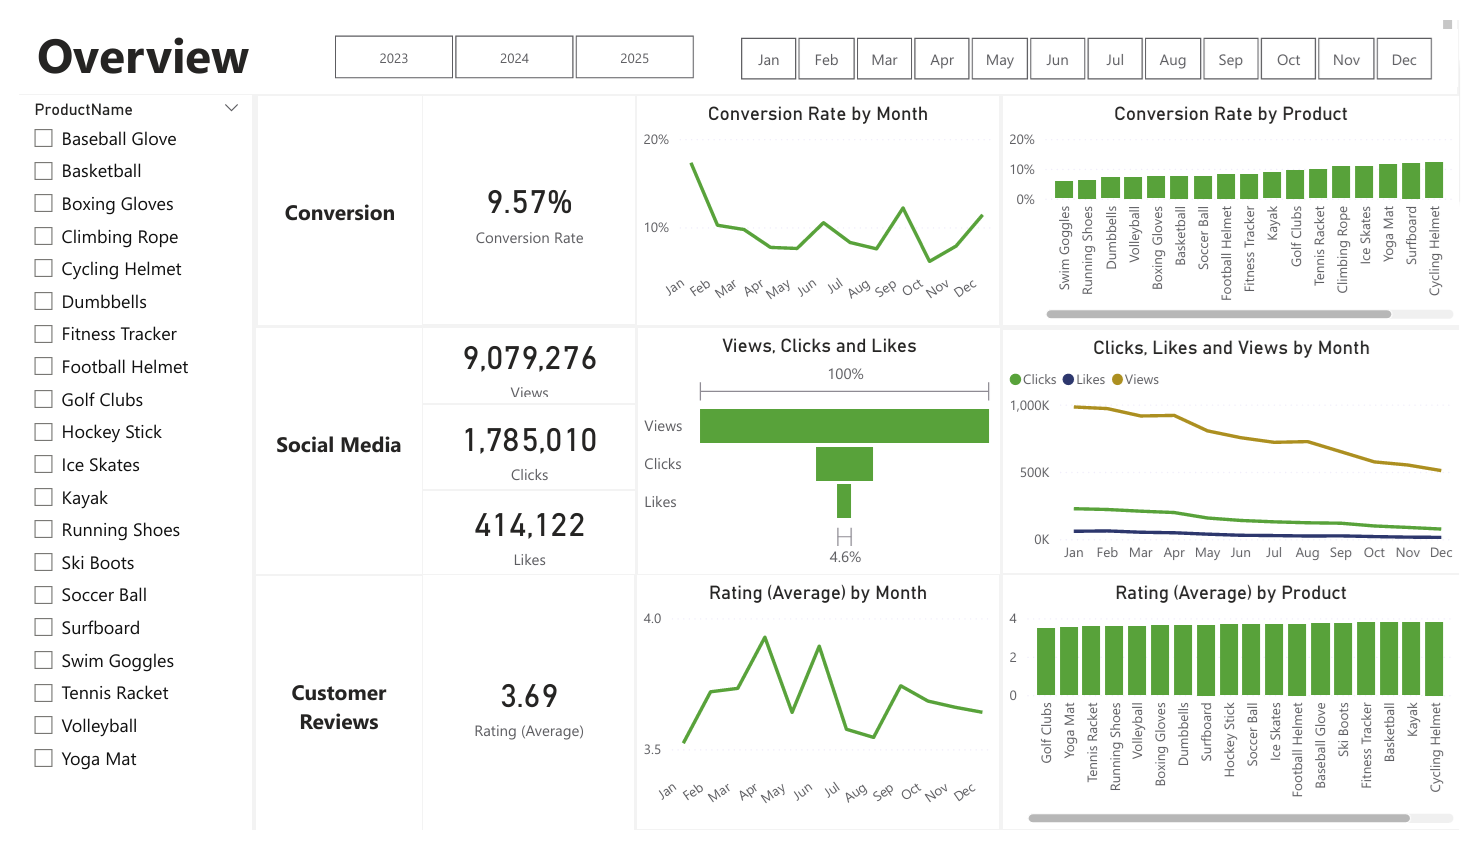

This screenshot's page, from the dashboard's own definition file:
{"tool":"powerbi","page":{"name":"Overview","canvas":[1280,720],"ordinal":0},"visuals":[{"type":"textbox","box":[0,0,1278.5,64.7],"z":0},{"type":"slicer","fields":{"Values":["products.ProductName"]},"box":[0,66.2,207.4,653.7],"z":1000},{"type":"textbox","box":[212,66.6,145.4,202.9],"z":2000},{"type":"textbox","box":[210.5,273.1,146.9,217.5],"z":3000},{"type":"textbox","box":[210.5,493.6,146.9,227.1],"z":4000},{"type":"card","fields":{"Values":["Calculations.Conversion Rate"]},"box":[358.9,66.6,187.8,202.4],"z":5000},{"type":"card","fields":{"Values":["Calculations.Views"]},"box":[358.9,272.6,187.8,66.6],"z":6000},{"type":"card","fields":{"Values":["Calculations.Likes"]},"box":[358.9,417.9,187.8,72.7],"z":7000},{"type":"card","fields":{"Values":["Calculations.Rating (Average)"]},"box":[359,493.4,186.9,227.9],"z":8000},{"type":"card","fields":{"Values":["Calculations.Clicks"]},"box":[358.9,342.2,187.8,74.2],"z":9000},{"type":"slicer","fields":{"Values":["Calendar.Year"]},"box":[254.4,6.1,368.5,51.5],"z":10000},{"type":"slicer","fields":{"Values":["Calendar.MonthNameShort"]},"box":[614.5,8.1,664.9,50.4],"z":11000},{"type":"lineChart","title":"Conversion Rate by Month","fields":{"Y":["Calculations.Conversion Rate"],"Category":["Calendar.MonthNameShort"]},"box":[549.2,67.2,321.3,203.3],"z":12000},{"type":"clusteredColumnChart","title":"Conversion Rate by Product","fields":{"Category":["products.ProductName"],"Y":["Calculations.Conversion Rate"]},"box":[873.8,67.2,404.9,203.3],"z":13000},{"type":"lineChart","title":"Clicks, Likes and Views by Month","fields":{"Category":["Calendar.MonthNameShort"],"Y":["Calculations.Clicks","Calculations.Likes","Calculations.Views"]},"box":[873.7,274.6,405.8,216],"z":14000},{"type":"funnel","fields":{"Y":["Calculations.Views","Calculations.Clicks","Calculations.Likes"]},"box":[549.7,272.6,321,218],"z":15000},{"type":"lineChart","title":"Rating (Average) by Month","fields":{"Y":["Calculations.Rating (Average)"],"Category":["Calendar.MonthNameShort"]},"box":[549,493,321,225],"z":16000},{"type":"clusteredColumnChart","title":"Rating (Average) by Product","fields":{"Category":["products.ProductName"],"Y":["Calculations.Rating (Average)"]},"box":[873.8,493.4,404.9,224.6],"z":17000}]}

Visuals, with their boxes in screenshot pixels (x1, y1, x2, y2), scaled from the page's 1280x720 canvas onto the 1484x854 screenshot:
textbox: (0,0,1482,77)
slicer - products.ProductName: (0,79,240,853)
textbox: (246,79,414,320)
textbox: (244,324,414,582)
textbox: (244,585,414,853)
card - Calculations.Conversion Rate: (416,79,634,319)
card - Calculations.Views: (416,323,634,402)
card - Calculations.Likes: (416,496,634,582)
card - Calculations.Rating (Average): (416,585,633,853)
card - Calculations.Clicks: (416,406,634,494)
slicer - Calendar.Year: (295,7,722,68)
slicer - Calendar.MonthNameShort: (712,10,1483,69)
"Conversion Rate by Month" lineChart: (637,80,1009,321)
"Conversion Rate by Product" clusteredColumnChart: (1013,80,1482,321)
"Clicks, Likes and Views by Month" lineChart: (1013,326,1483,582)
funnel - Calculations.Views x Calculations.Clicks: (637,323,1009,582)
"Rating (Average) by Month" lineChart: (636,585,1009,852)
"Rating (Average) by Product" clusteredColumnChart: (1013,585,1482,852)
